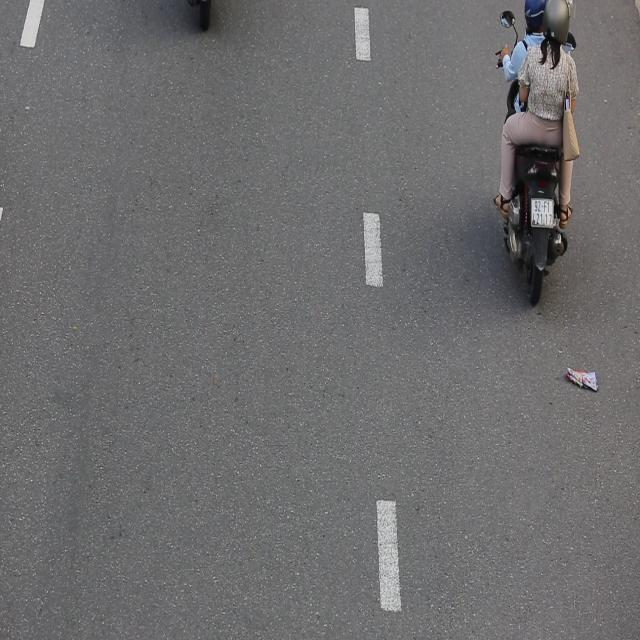motorbike: (488, 0, 583, 310)
